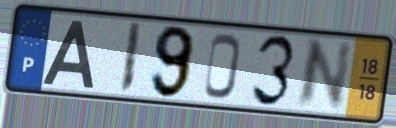0: (203, 32, 244, 101)
3: (246, 32, 300, 109)
9: (149, 23, 199, 101)
A: (39, 18, 97, 90)
I: (116, 20, 144, 96)
N: (293, 37, 355, 111)
